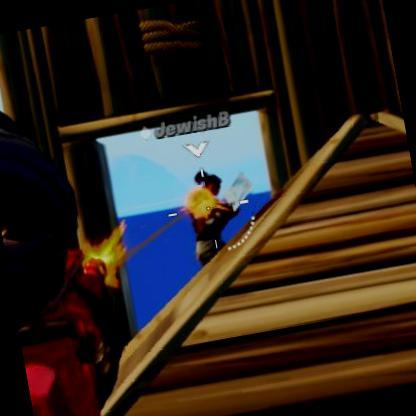person: (184, 165, 236, 265)
